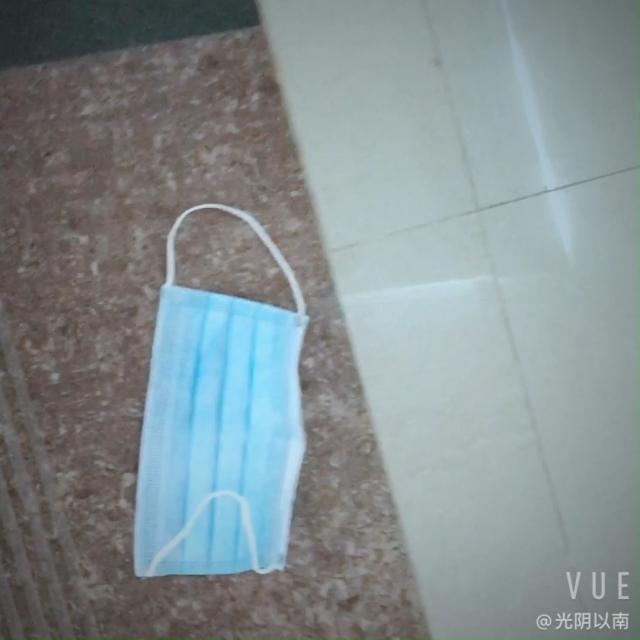non-organic waste: (118, 289, 324, 582)
